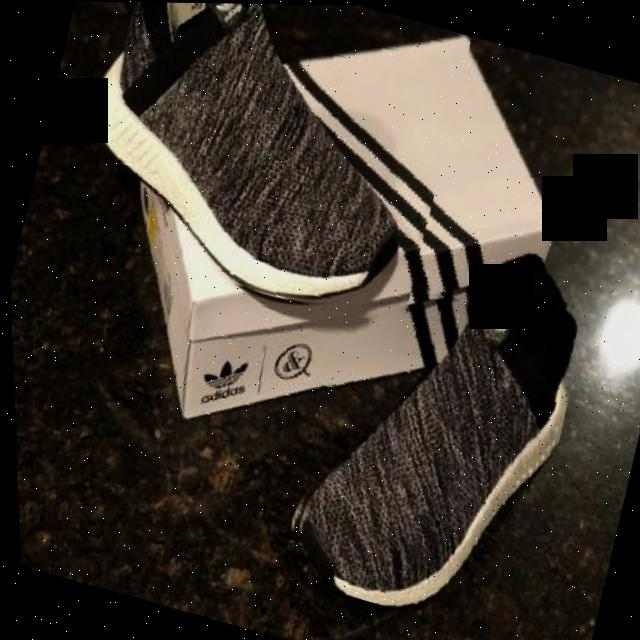shoe: (69, 1, 480, 334), (264, 260, 591, 640)
